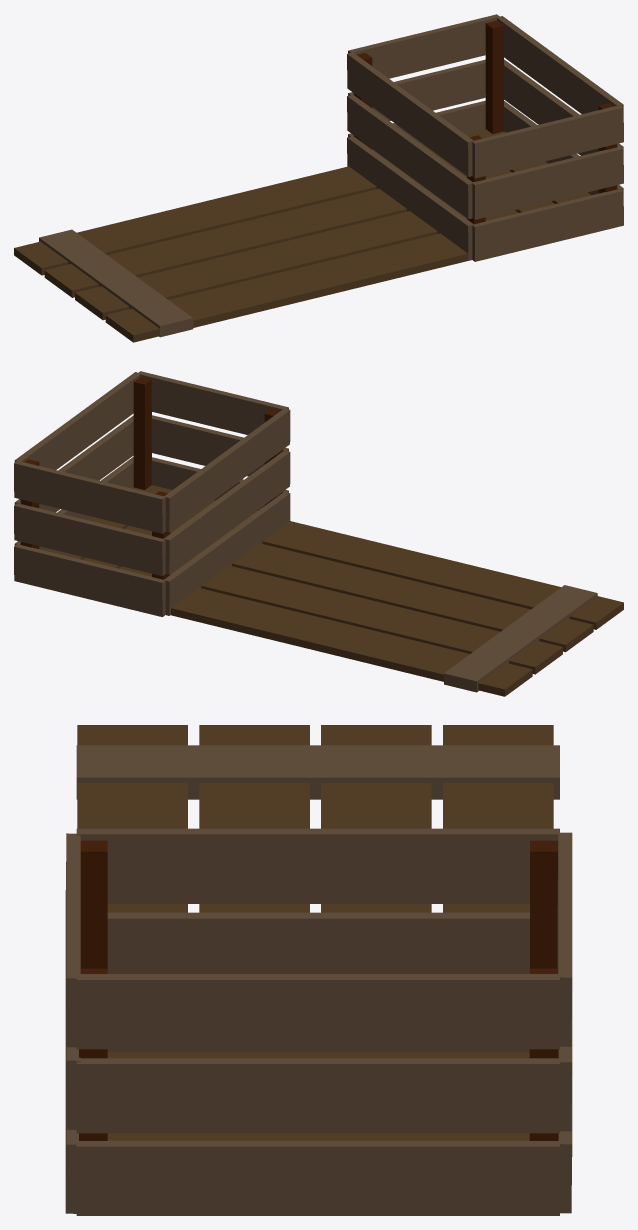
Rendered from CAJA.fbx.
The picture shows the model from 3 angles, top to bottom: view 1: azimuth 30°, elevation 25°; view 2: azimuth 150°, elevation 25°; view 3: azimuth 270°, elevation 25°; orthographic projection. The views are drawn at different scales.
Visible parts, largest first — view 1: SueloCaja, Cube.004; view 2: SueloCaja, Cube.004; view 3: SueloCaja, Cube.004.
Boxes of the visible parts, x1,y1,x2,y2 form: SueloCaja: [347, 14, 623, 261]; Cube.004: [14, 166, 471, 342]; SueloCaja: [14, 371, 290, 616]; Cube.004: [171, 521, 623, 696]; SueloCaja: [65, 828, 572, 1215]; Cube.004: [76, 725, 559, 912].
Bounding box in the file's own units: 179 × 93.22 × 400.
